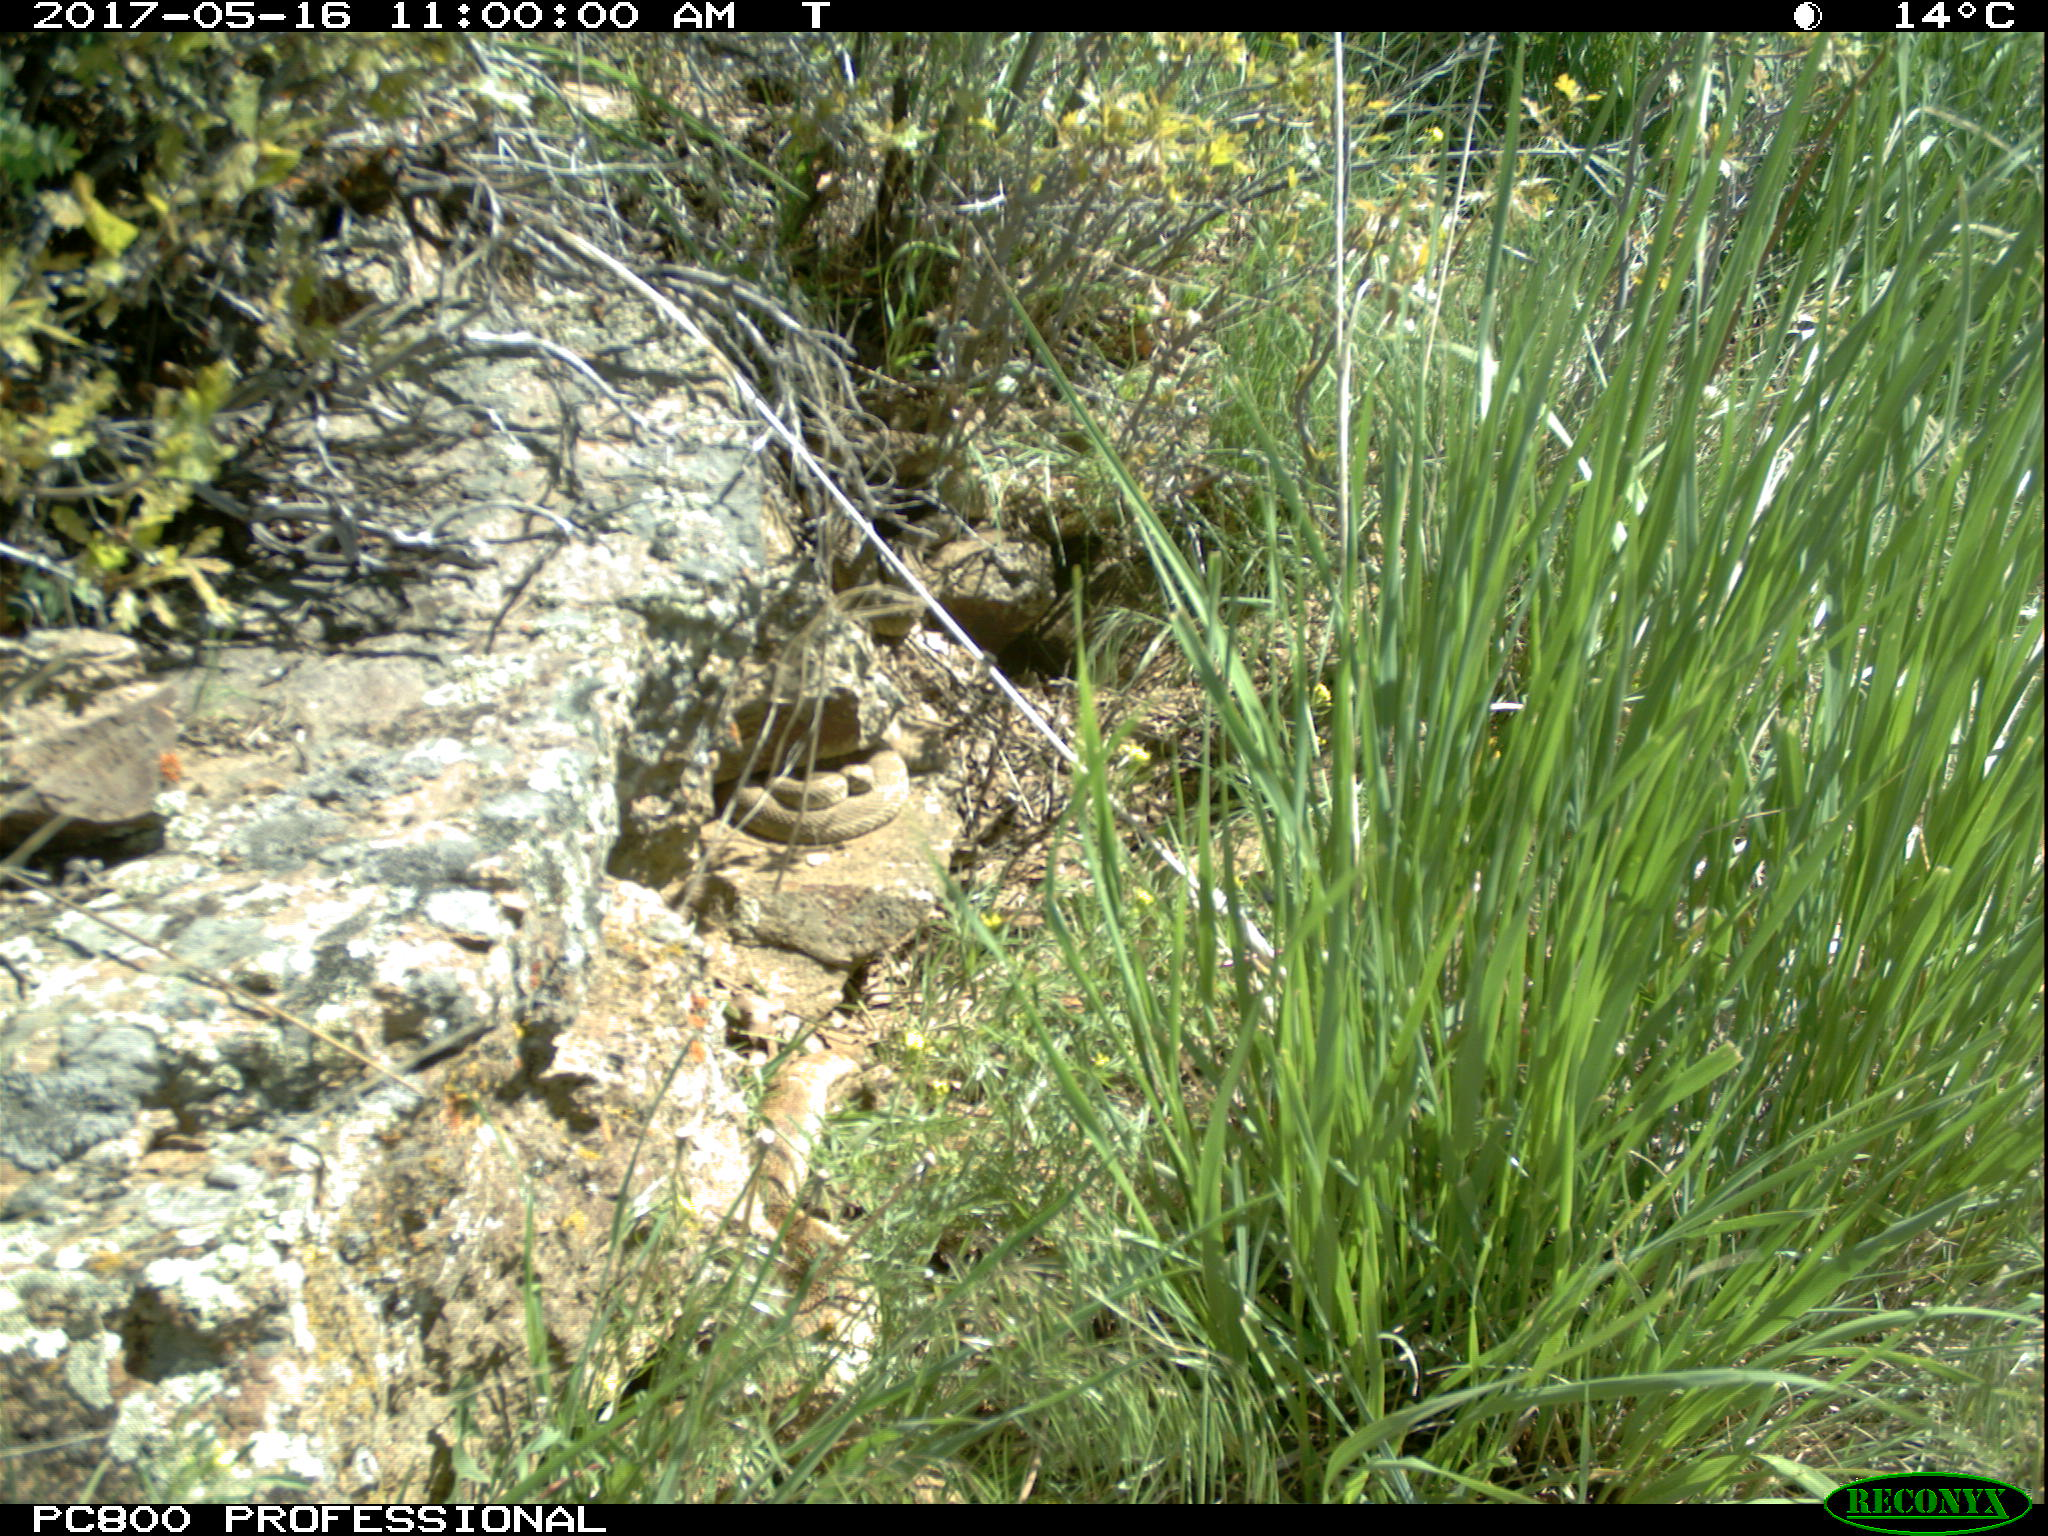snake: (751, 1050, 880, 1399), (726, 744, 913, 845), (866, 502, 953, 637)
